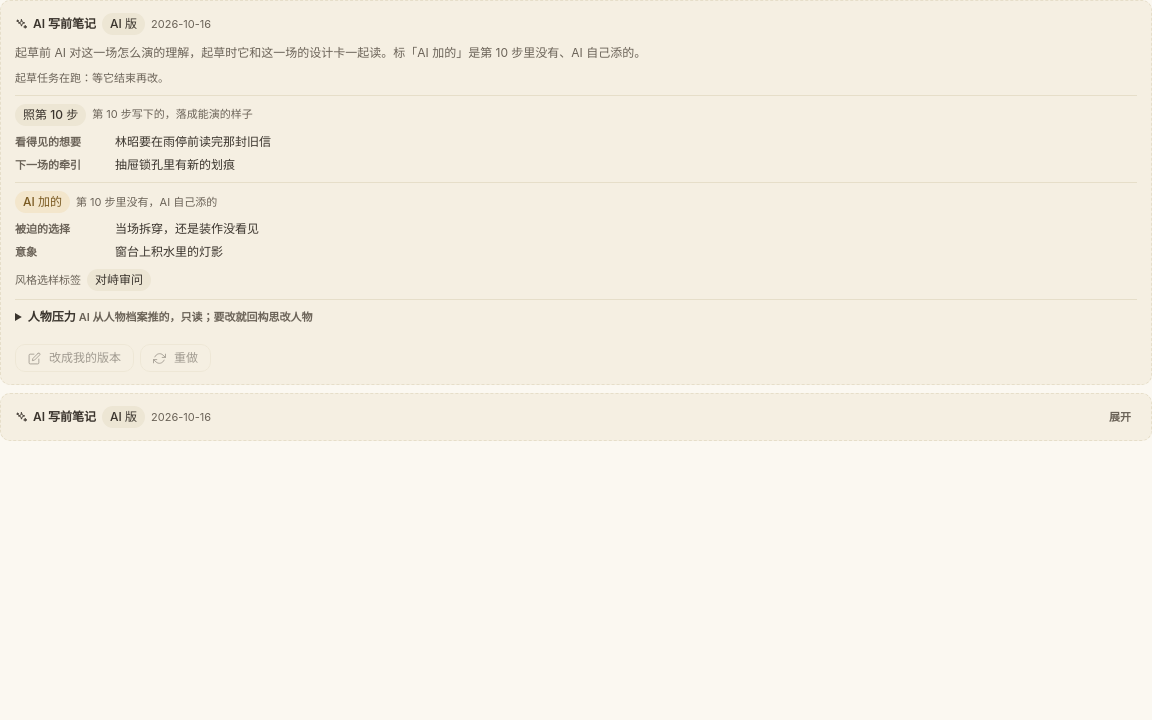
it: AI 写前笔记 › 起草任务在跑时按钮全灰；只读时不给按钮
Click the button "展开" at (1120, 417), box [1103, 407, 1137, 428]
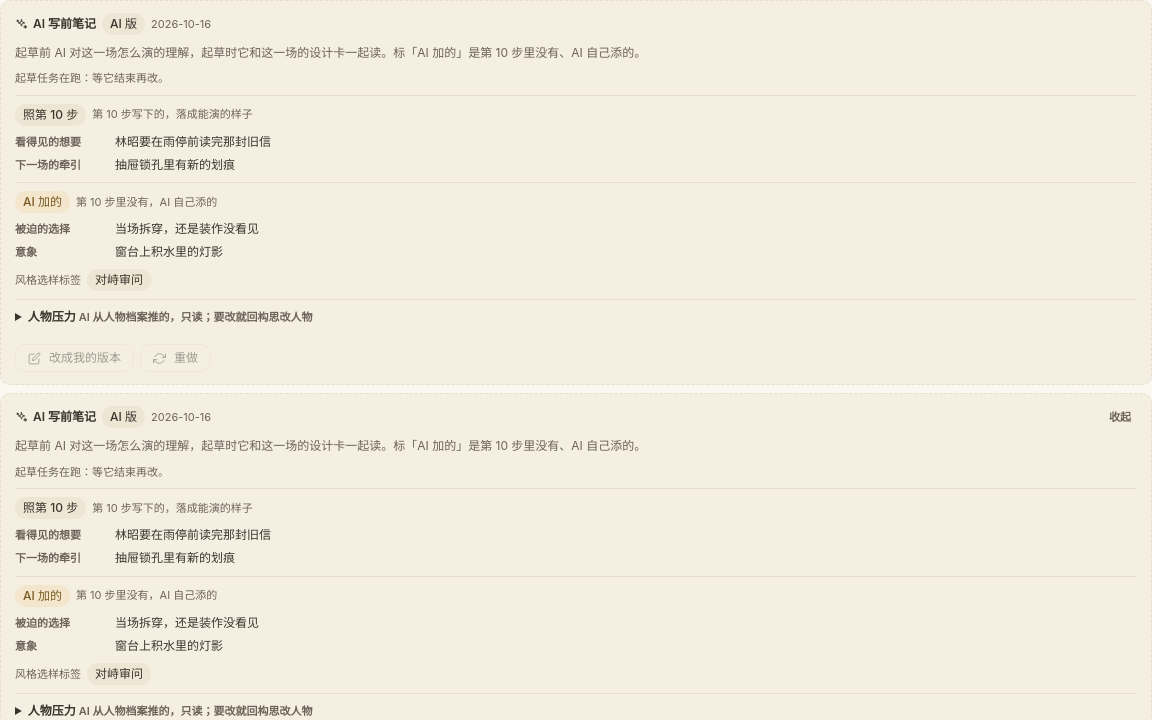
Expected: the 2nd element with test id "scene-blueprint-plan" is shown, [15, 488, 1137, 568]
